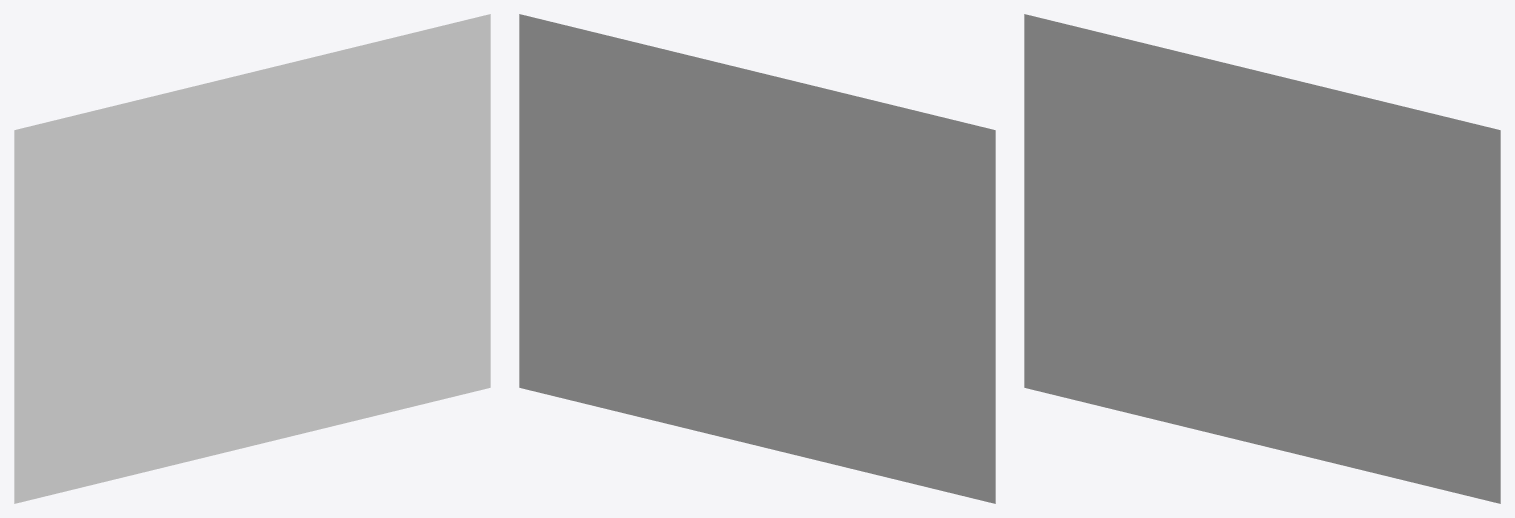
Rendered from videosurface.glb.
The picture shows the model from 3 angles, left to right: view 1: azimuth 30°, elevation 25°; view 2: azimuth 150°, elevation 25°; view 3: azimuth 330°, elevation 25°; orthographic projection.
Parts seen in each view (by area): view 1: f3dlite_materialMesh; view 2: f3dlite_materialMesh; view 3: f3dlite_materialMesh.
Boxes of the visible parts, x1,y1,x2,y2 form: f3dlite_materialMesh: (14, 14, 490, 503); f3dlite_materialMesh: (519, 14, 995, 503); f3dlite_materialMesh: (1024, 14, 1500, 503).
Bounding box in the file's own units: 32 × 24 × 0.
Materials: 1 (1 with a texture image).
